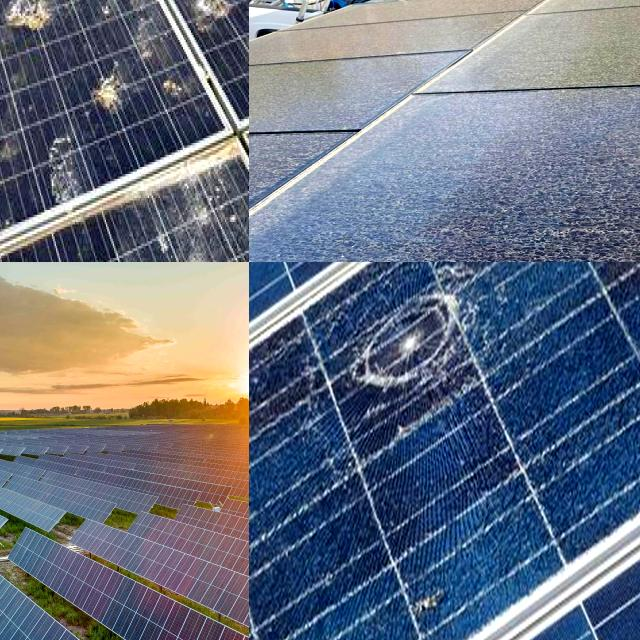bird: (0, 0, 68, 52), (146, 59, 197, 112), (0, 74, 24, 180), (88, 56, 134, 109), (41, 136, 82, 193), (186, 193, 230, 245), (195, 0, 232, 53), (89, 0, 149, 20), (78, 246, 107, 262)
dust: (409, 98, 504, 210), (249, 62, 386, 132), (519, 127, 640, 204), (269, 215, 427, 262), (528, 14, 640, 77), (537, 95, 640, 121), (249, 137, 277, 217)
hotspot: (342, 268, 490, 432)
